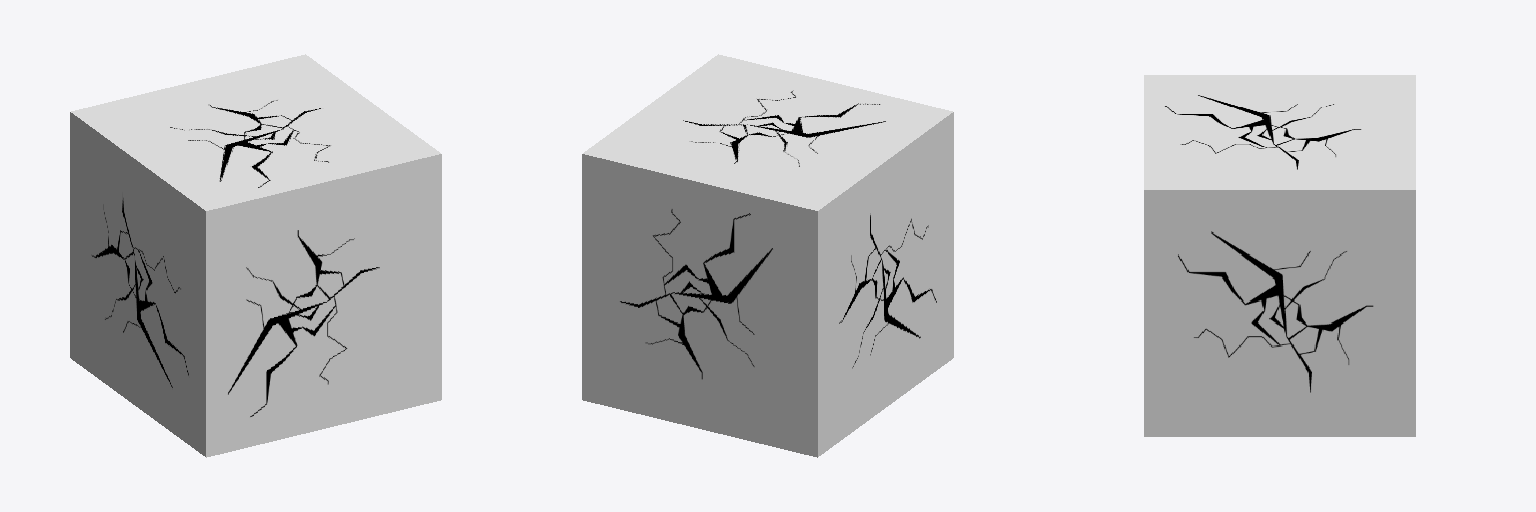
The picture shows the model from 3 angles: view 1: azimuth 30°, elevation 25°; view 2: azimuth 150°, elevation 25°; view 3: azimuth 270°, elevation 25°; orthographic projection.
Parts seen in each view (by area): view 1: Cube; view 2: Cube; view 3: Cube.
Part boxes in pixels (x1,y1,x2,y2): Cube: (70,54,441,457); Cube: (582,54,953,457); Cube: (1144,75,1415,436).
Size of the model in its own units: 2 by 2 by 2.
1 materials, 1 textured.